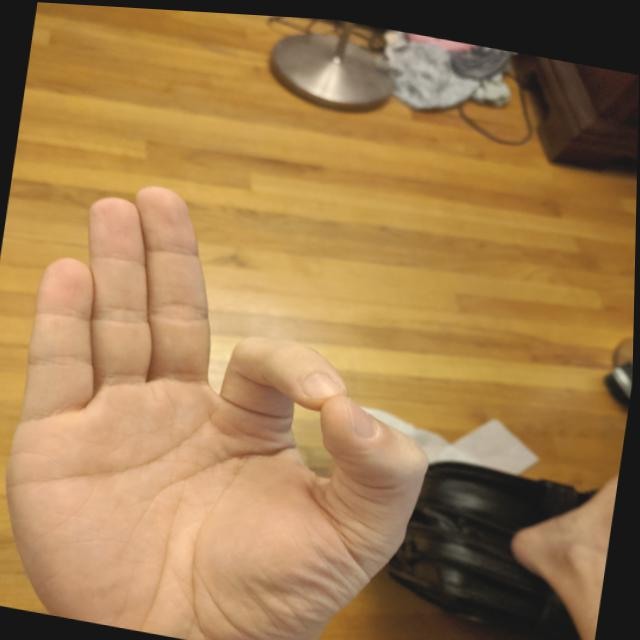F: (0, 156, 472, 639)
